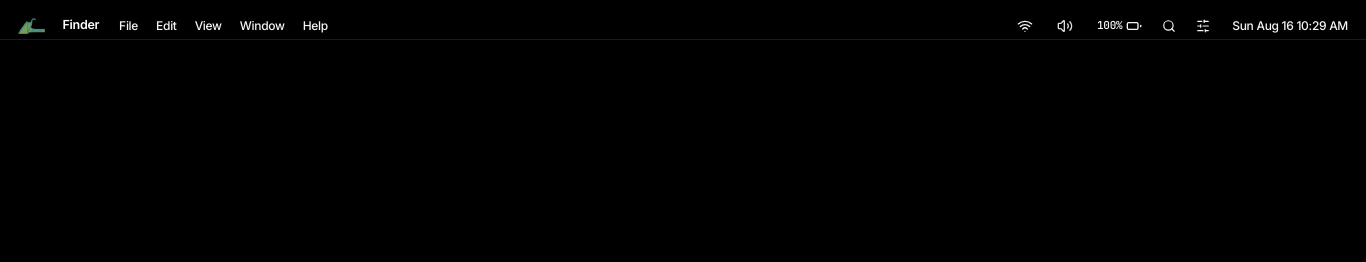
Test case: TopMenuBar Component › should open and close Apple menu dropdown on click
// Open dropdown
Click the button with test id "apple-menu-button" at [31, 26], box [12,14,51,36]
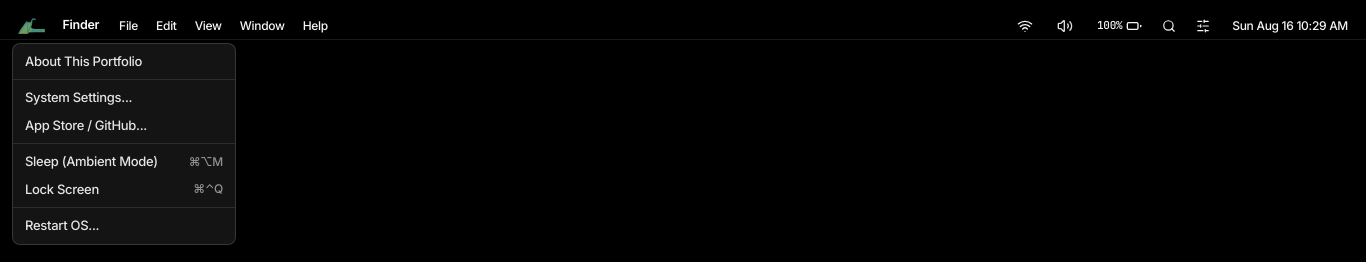
Expected: the element with test id "apple-menu-dropdown" is shown, [12,42,236,244]
Expected: the text "About This Portfolio" is shown, [25,52,142,71]
Expected: the text "System Settings..." is shown, [25,88,132,108]
// Close dropdown
Click the button with test id "apple-menu-button" at [31, 26], box [12,14,51,36]
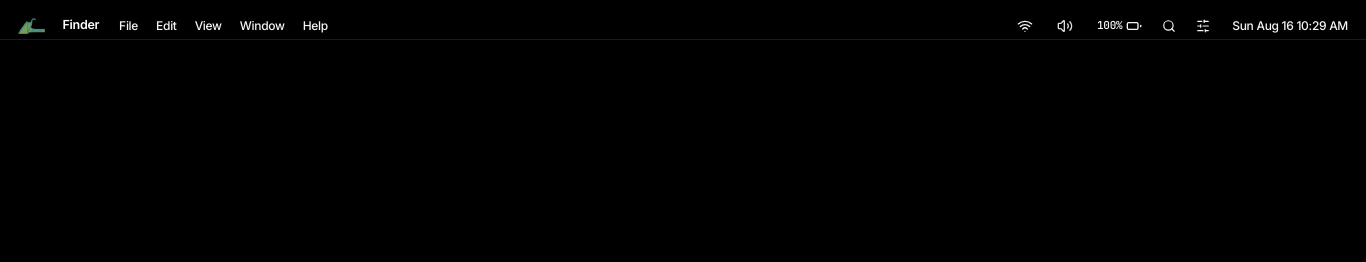
Expected: the element with test id "apple-menu-dropdown" is gone
